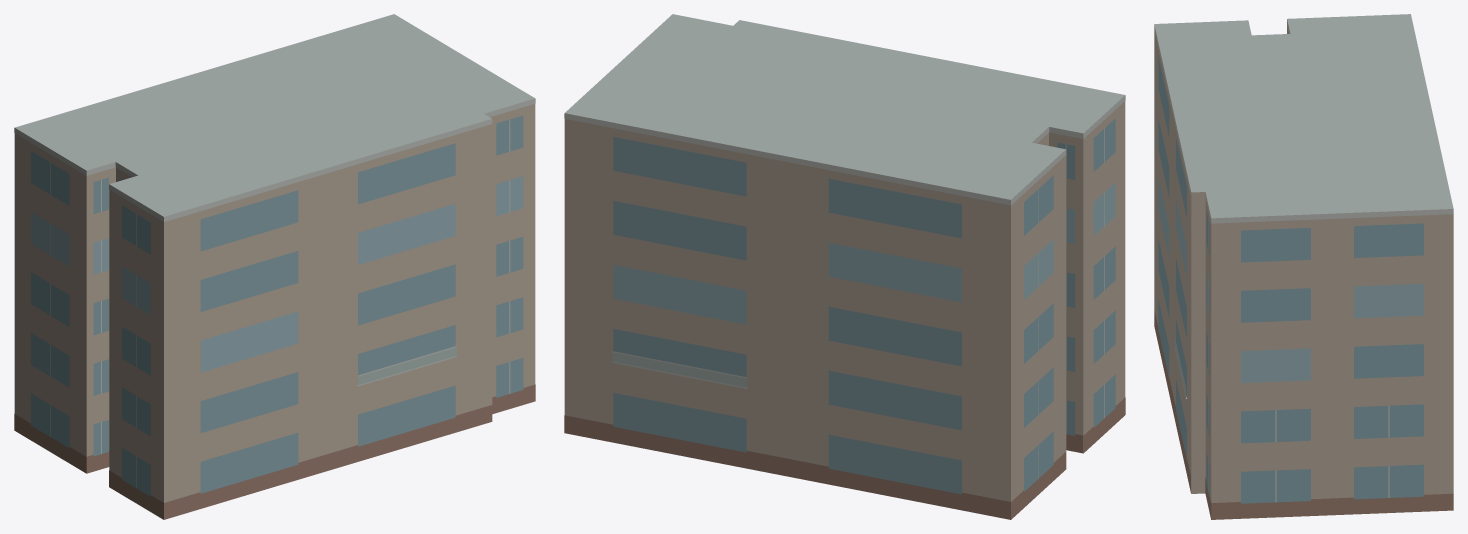
File: survey-upis-32757680.glb
3 renders of one model, left to right at view 1: azimuth 30°, elevation 25°; view 2: azimuth 150°, elevation 25°; view 3: azimuth 270°, elevation 25°, orthographic. The views are drawn at different scales.
Visible parts, largest first — view 1: survey-upis-32757680.tmp; view 2: survey-upis-32757680.tmp; view 3: survey-upis-32757680.tmp.
Boxes of the visible parts, bbox=[...] form: survey-upis-32757680.tmp: bbox=[14, 14, 535, 519]; survey-upis-32757680.tmp: bbox=[564, 14, 1125, 519]; survey-upis-32757680.tmp: bbox=[1154, 14, 1453, 519].
Bounding box in the file's own units: 20.35 × 14 × 12.61.
